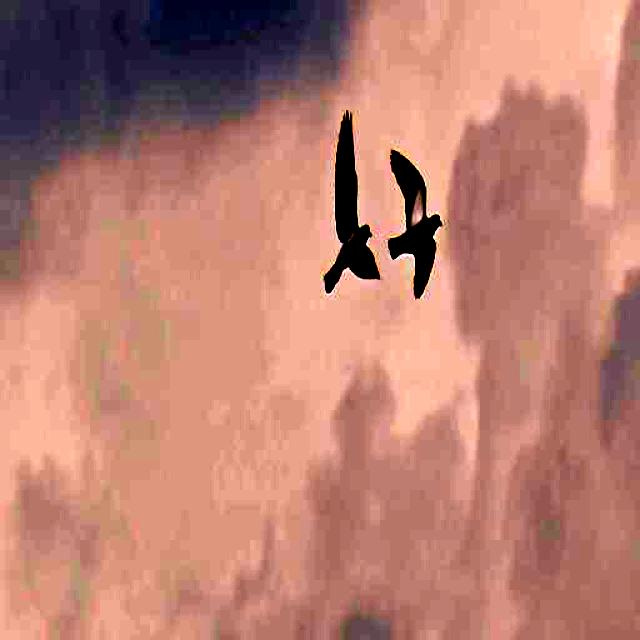airplane: (388, 99, 450, 361), (316, 101, 384, 311)
